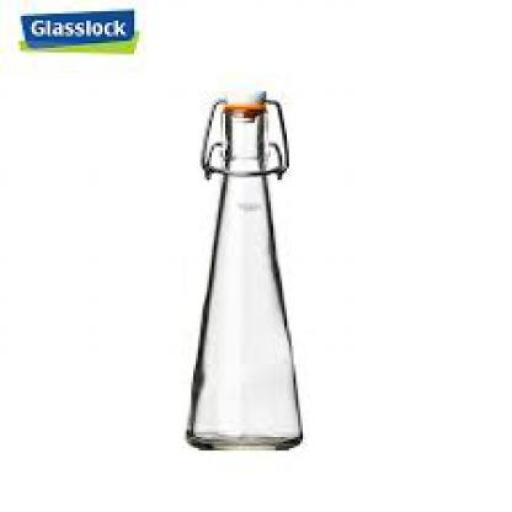glass: (180, 107, 300, 446)
